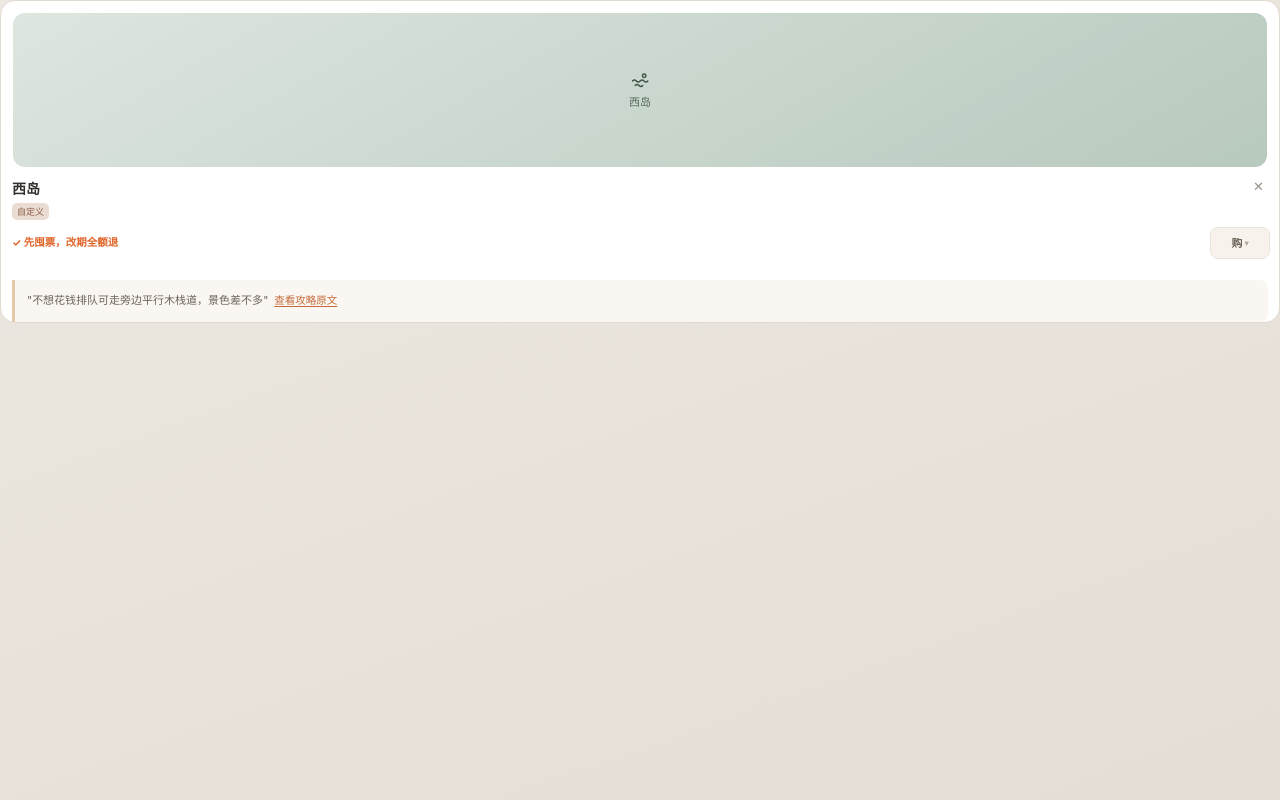
Scenario: VisitCard 相似亮点展示层聚类（Task #342） › 点开原文 sheet：父卡引用块背后的 EvidenceSheet 仍逐条全量展示 2 条
The image size is (1280, 800).
Click the button with class "guide-quote-link": (306, 300) x1=274 y1=292 x2=337 y2=307
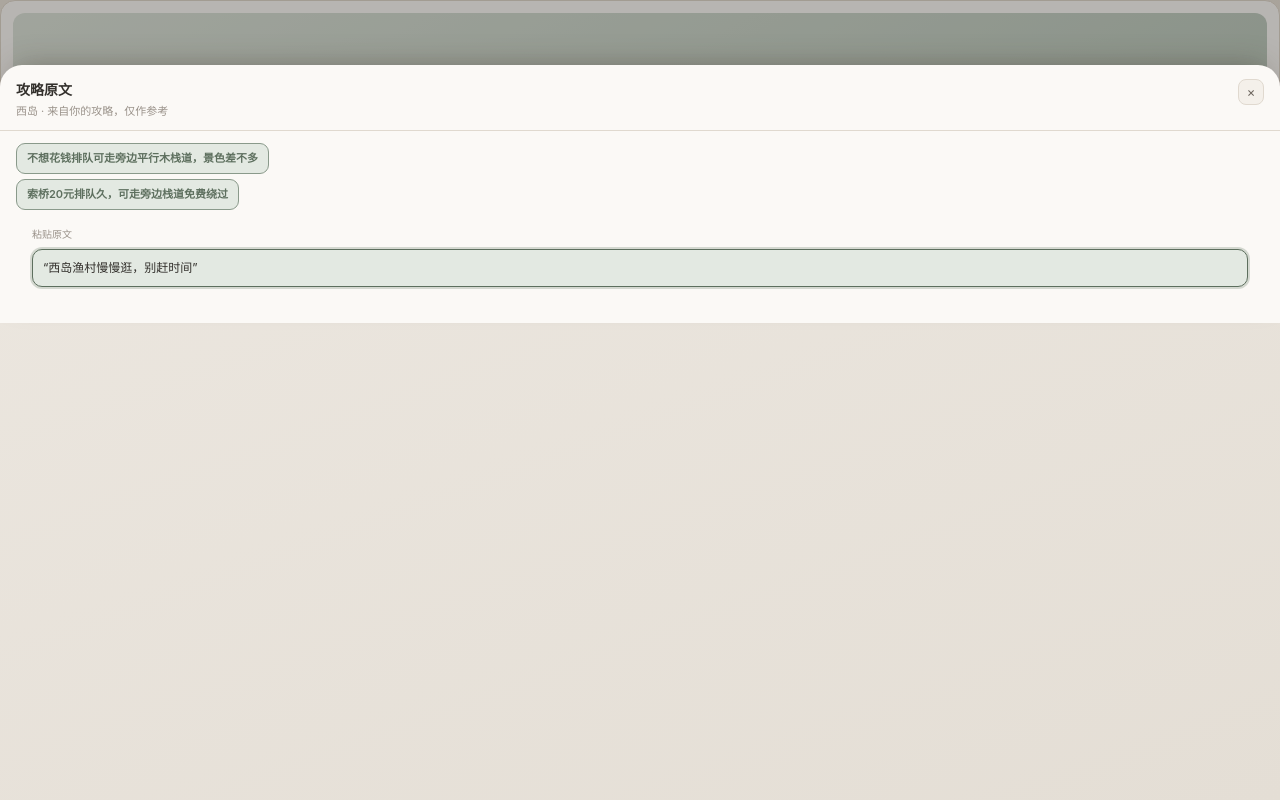
Result: the dialog "攻略原文" is shown at x1=0 y1=65 x2=1279 y2=323
